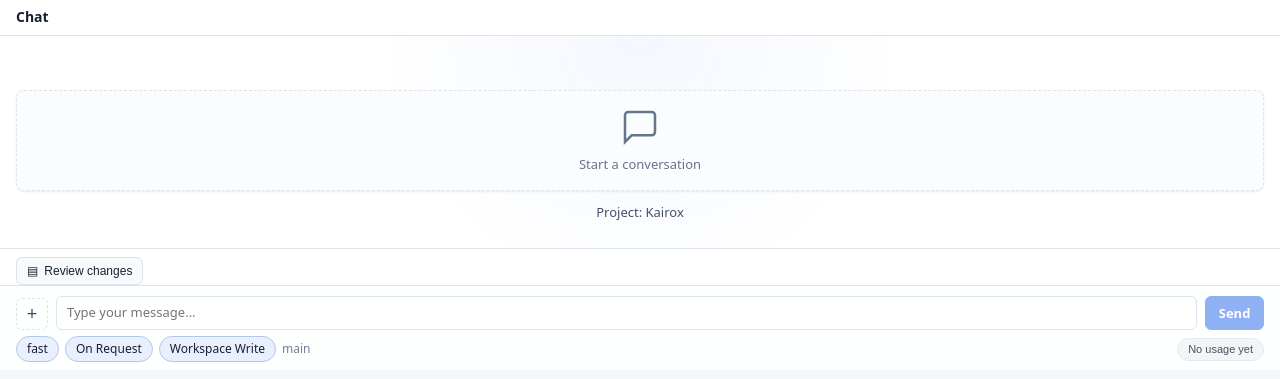
ChatPanel › shows a searchable branch selector for a pending project placeholder
The image size is (1280, 379).
Click the button with test id "session-git-meta": [296, 349] box [282, 338, 310, 360]
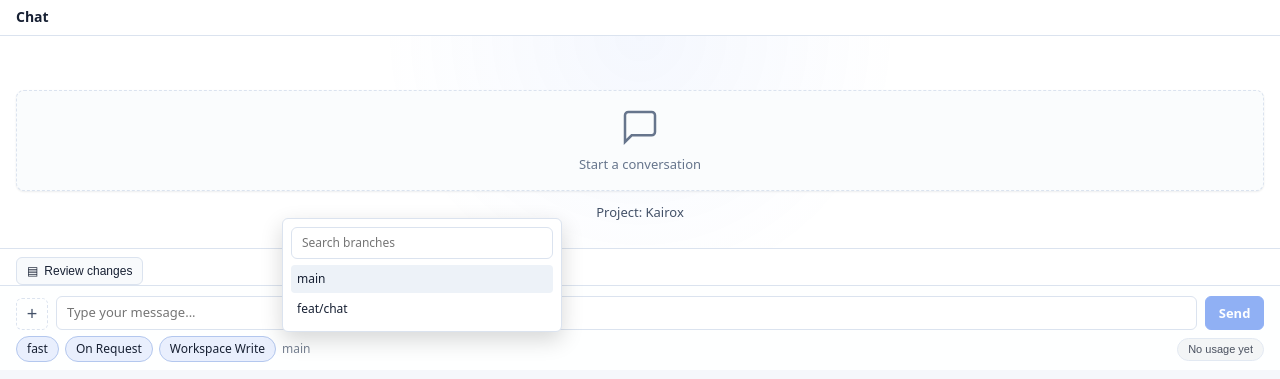
In the field with test id "project-branch-search": [422, 243] box [291, 227, 553, 259], type "feat"
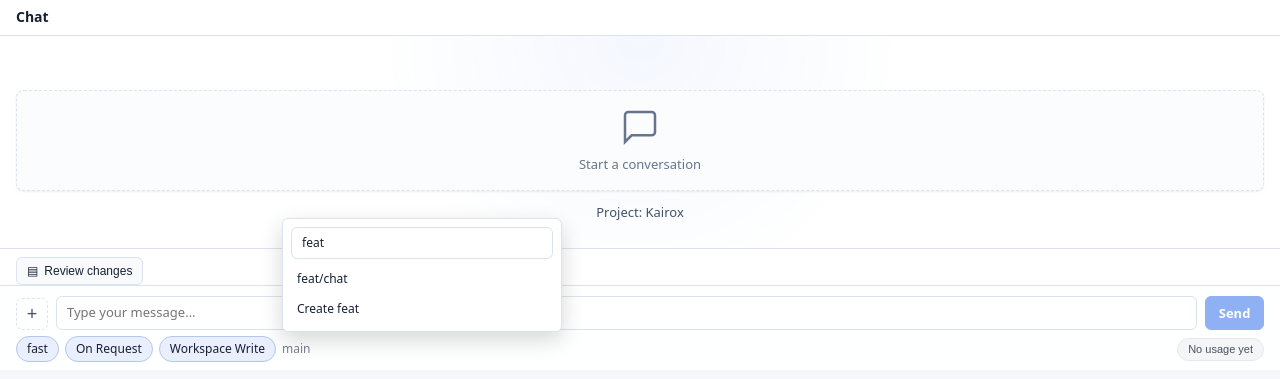
Check: the button with test id "project-branch-option-feat-chat" is shown
Click the button with test id "project-branch-option-feat-chat": [322, 279] box [291, 265, 553, 293]
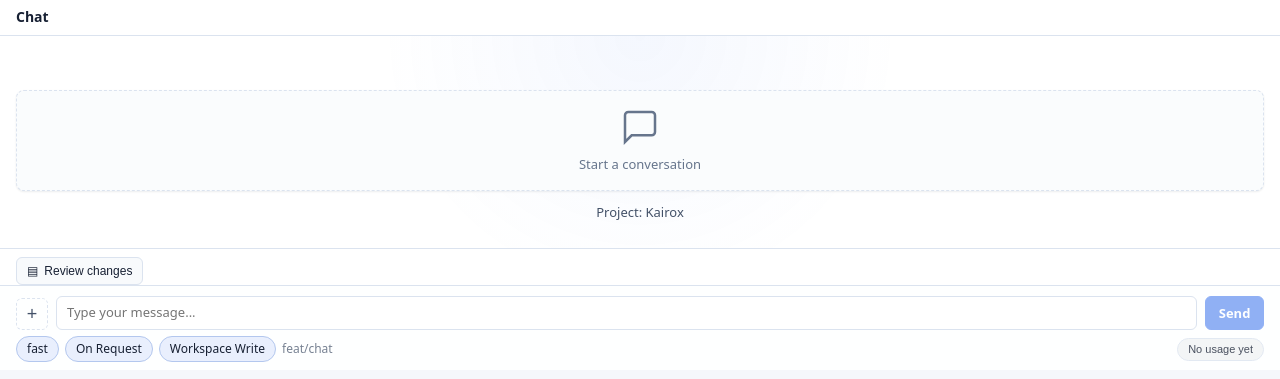
Check: the button with test id "session-git-meta" reads "feat/chat"
Click the button with test id "session-git-meta": [307, 349] box [282, 338, 333, 360]
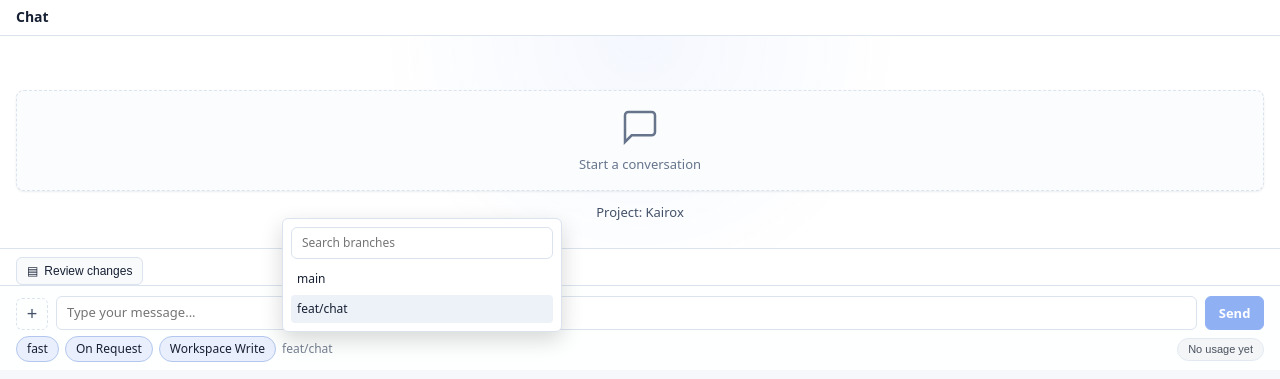
In the field with test id "project-branch-search": [422, 243] box [291, 227, 553, 259], type "feat/new-chat"
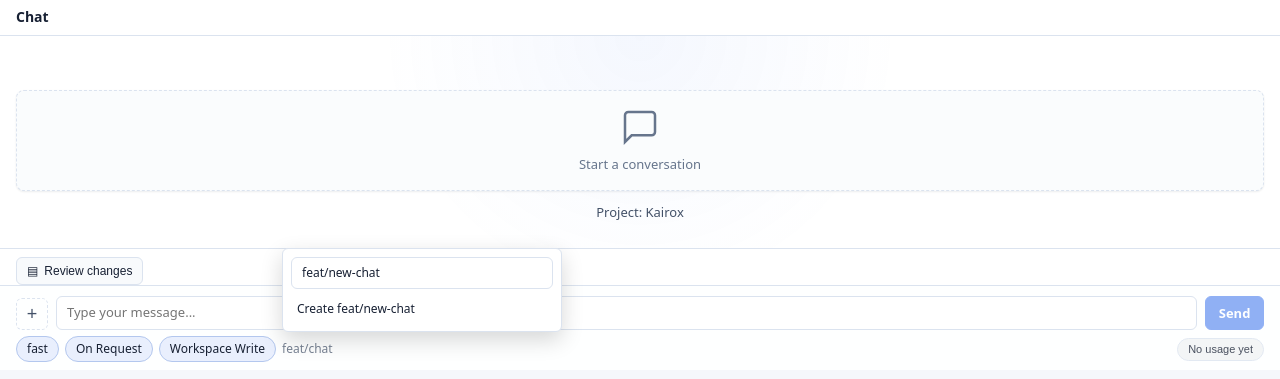
Click the button with test id "project-branch-create": [356, 309] box [291, 295, 553, 323]
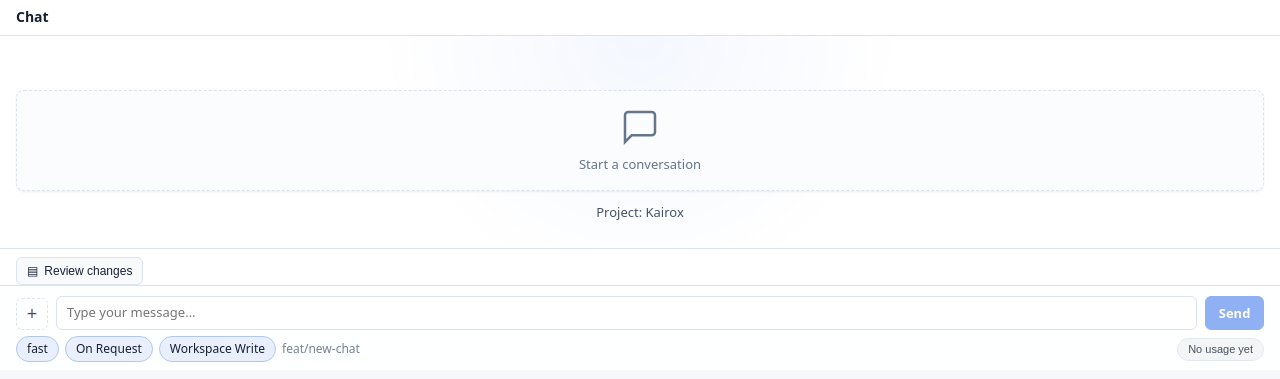
Check: the button with test id "session-git-meta" reads "feat/new-chat", box [282, 338, 360, 360]
